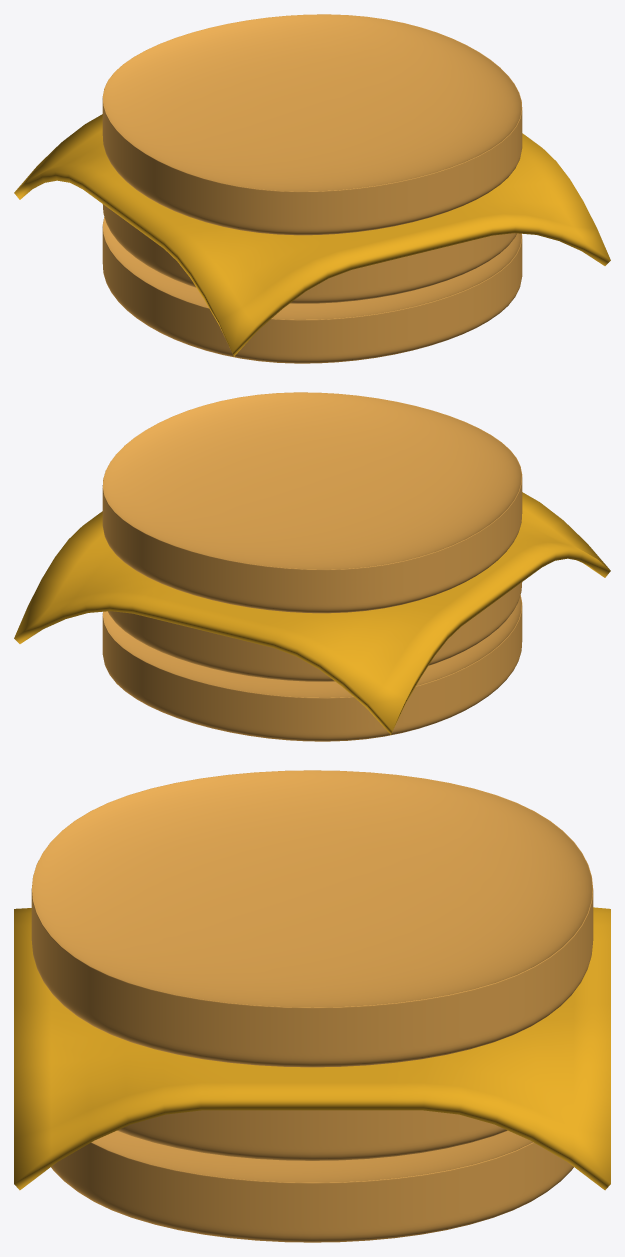
The model's file is hamburger.glb.
3 views of the same model, one above another, from view 1: azimuth 30°, elevation 25°; view 2: azimuth 150°, elevation 25°; view 3: azimuth 270°, elevation 25° (orthographic). The views are drawn at different scales.
Parts seen in each view (by area): view 1: Cube.002, Plane, Cube, Cube.001; view 2: Cube.002, Plane, Cube, Cube.001; view 3: Cube.002, Plane, Cube, Cube.001.
Boxes of the visible parts, x1=… form: Cube.002: x1=102, y1=14, x2=522, y2=235; Plane: x1=14, y1=114, x2=610, y2=356; Cube: x1=102, y1=217, x2=522, y2=363; Cube.001: x1=102, y1=204, x2=516, y2=303; Cube.002: x1=102, y1=392, x2=522, y2=613; Plane: x1=14, y1=492, x2=610, y2=734; Cube: x1=102, y1=595, x2=522, y2=741; Cube.001: x1=108, y1=582, x2=522, y2=681; Cube.002: x1=31, y1=770, x2=593, y2=1067; Plane: x1=14, y1=907, x2=610, y2=1190; Cube: x1=51, y1=1130, x2=573, y2=1242; Cube.001: x1=117, y1=1110, x2=507, y2=1160.
Size of the model in its own units: 9.66 by 4.43 by 9.66.
